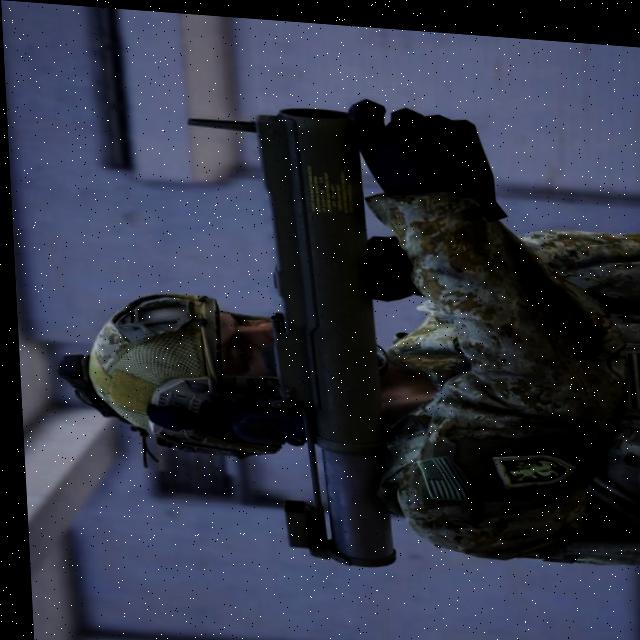rocket: (218, 53, 447, 579)
